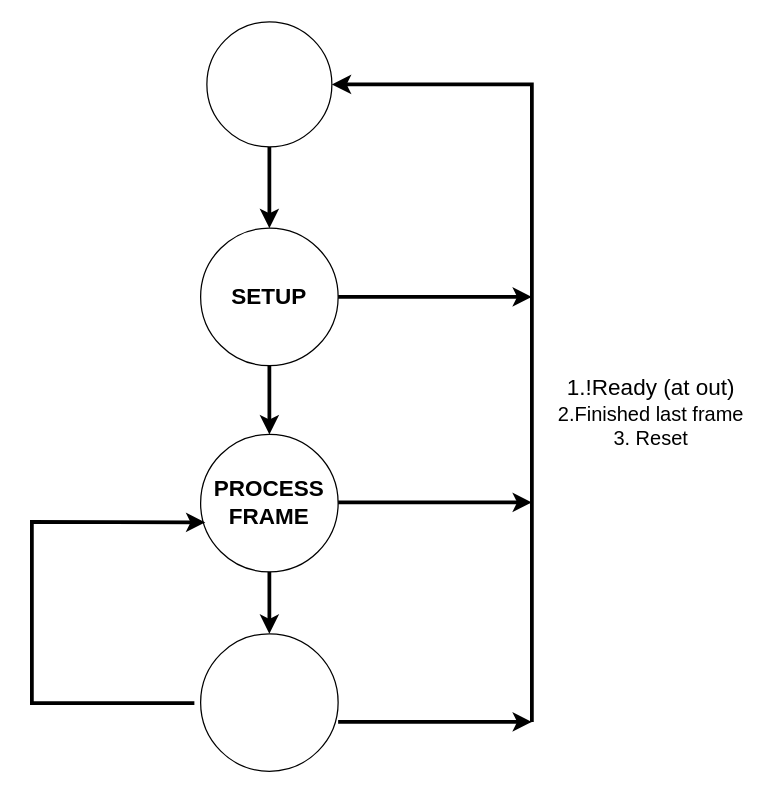
Image size: 779x794. Some labels were removed from this diagram. Here are the shapes that lost their labels. From the top down, the centre of each, then its label:
the point at 269,84: IDLE
the point at 268,701: NEXT FRAME
